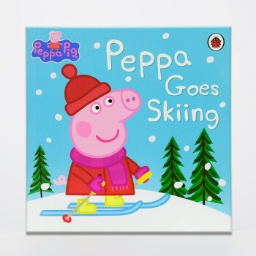Peppa: (53, 64, 152, 224)
